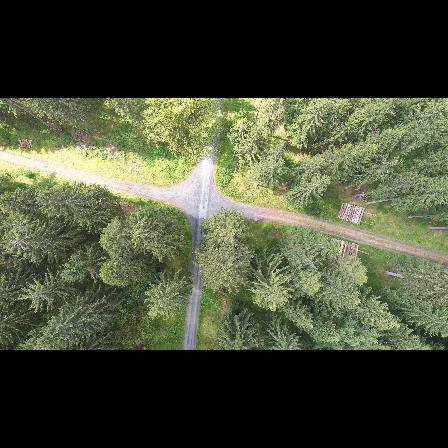Sick: (20, 284, 45, 308), (301, 251, 323, 273), (5, 233, 27, 254)
